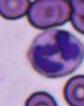N: (27, 29, 84, 78)
